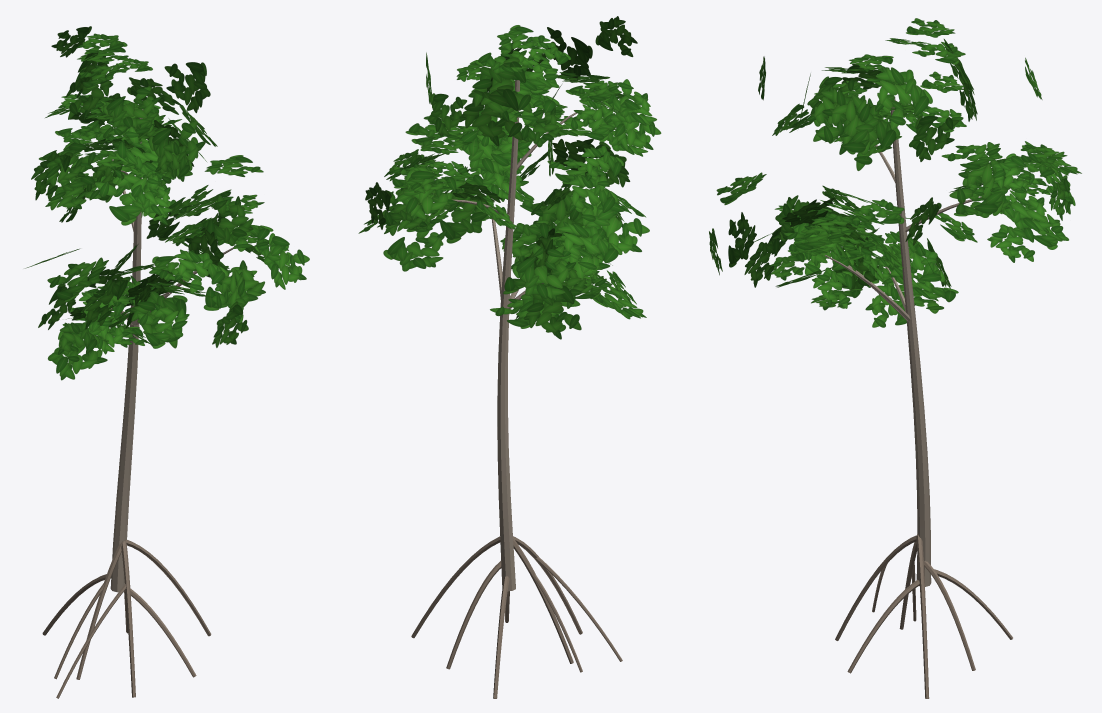
File: arvore_mangue_c.glb
3 renders of one model, left to right at view 1: azimuth 30°, elevation 25°; view 2: azimuth 150°, elevation 25°; view 3: azimuth 270°, elevation 25°, orthographic.
Visible parts, largest first — view 1: arvore_mangue_c; view 2: arvore_mangue_c; view 3: arvore_mangue_c.
Boxes of the visible parts, x1,y1,x2,y2 form: arvore_mangue_c: (24,26,309,698); arvore_mangue_c: (358,16,661,698); arvore_mangue_c: (709,18,1081,698).
Bounding box in the file's own units: 4.43 × 10.27 × 5.83.
3 materials, 1 textured.
